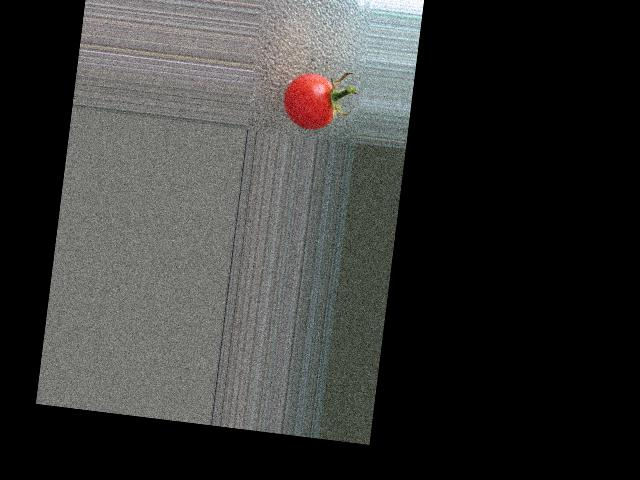tomato: (280, 69, 338, 131)
